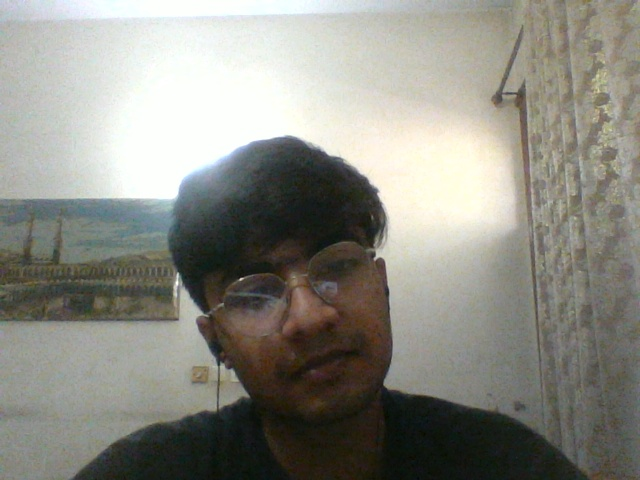neutral: (212, 238, 395, 419)
